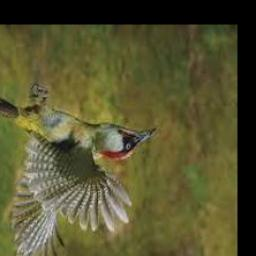Woodpecker: (0, 84, 157, 256)
